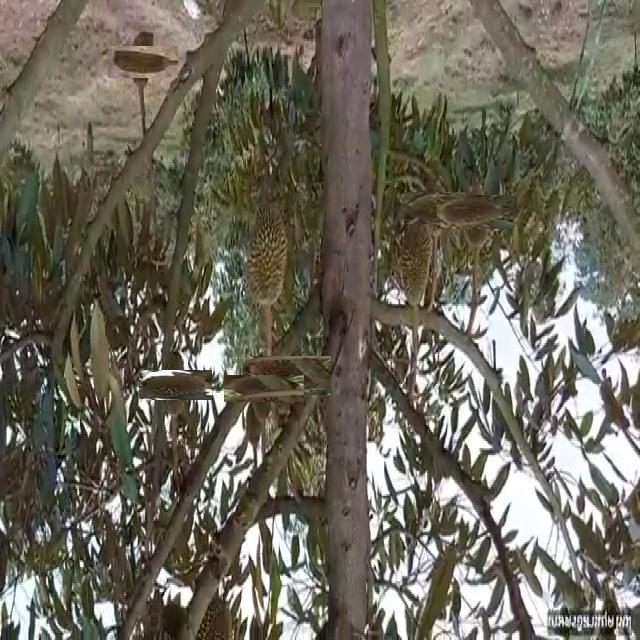durian: (244, 193, 292, 312), (398, 201, 434, 313), (257, 345, 319, 407), (448, 184, 503, 240), (237, 362, 291, 416), (149, 359, 201, 411), (117, 36, 168, 87), (411, 184, 459, 231)
